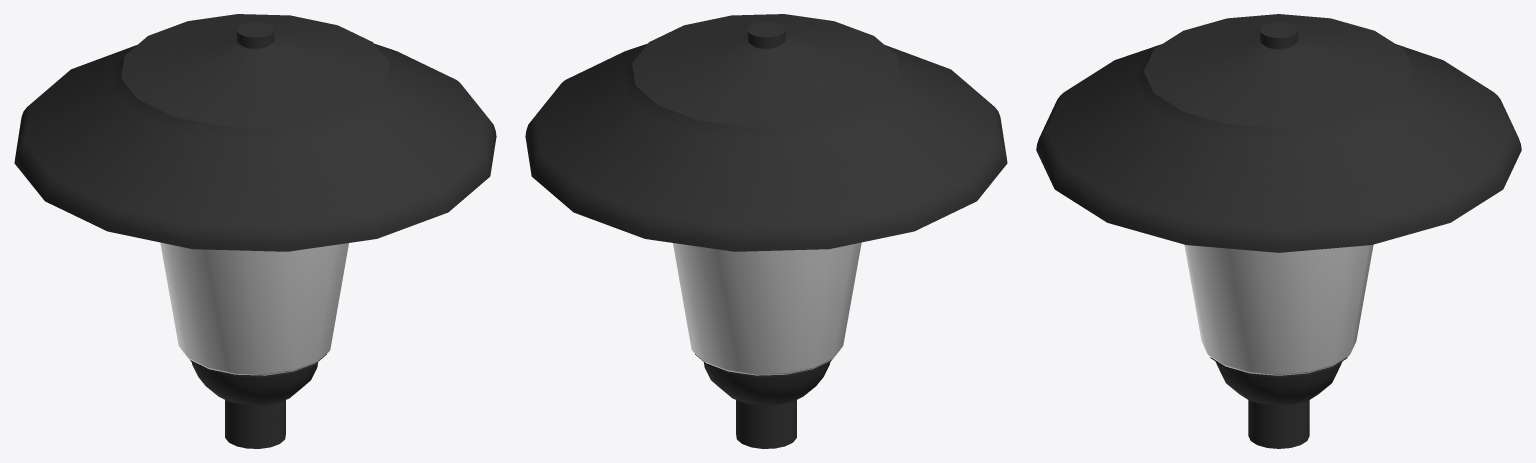
The picture shows the model from 3 angles, left to right: view 1: azimuth 30°, elevation 25°; view 2: azimuth 150°, elevation 25°; view 3: azimuth 270°, elevation 25°; orthographic projection.
Visible parts, largest first — view 1: Vulkan 5450, Vulkan 5450 Glas; view 2: Vulkan 5450, Vulkan 5450 Glas; view 3: Vulkan 5450, Vulkan 5450 Glas.
Part boxes in pixels (<box>): Vulkan 5450: <box>14,14,496,448</box>; Vulkan 5450 Glas: <box>160,242,348,375</box>; Vulkan 5450: <box>525,14,1007,448</box>; Vulkan 5450 Glas: <box>673,242,861,375</box>; Vulkan 5450: <box>1036,14,1521,448</box>; Vulkan 5450 Glas: <box>1184,244,1373,375</box>.
Bounding box in the file's own units: 0.7805 × 0.7198 × 0.7805.
3 materials, 2 textured.
